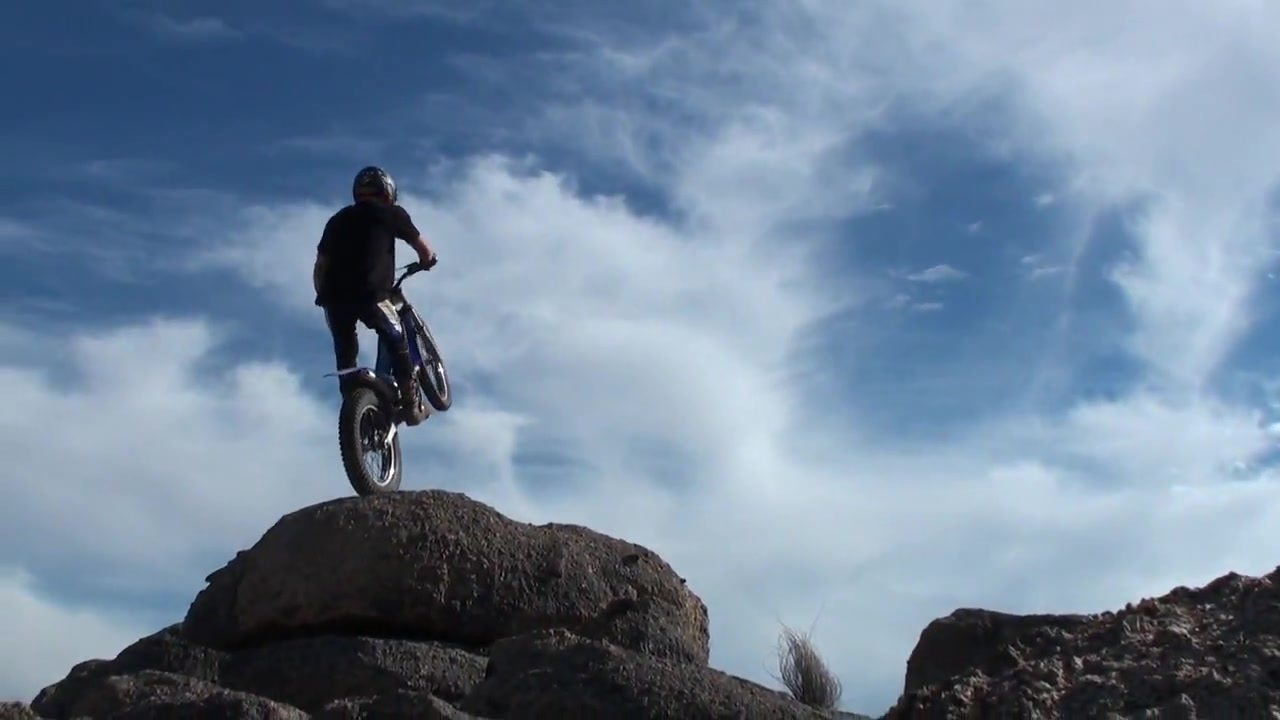motorbike: (320, 252, 452, 502)
